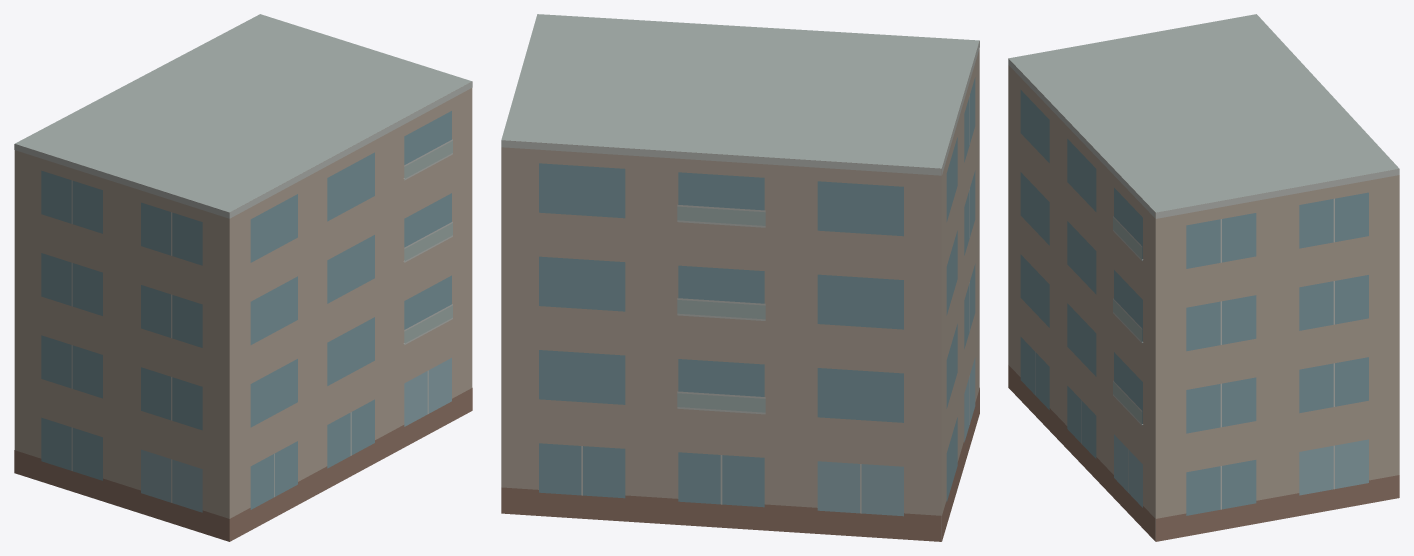
File: survey-upis-32758784.glb
The picture shows the model from 3 angles, left to right: view 1: azimuth 30°, elevation 25°; view 2: azimuth 150°, elevation 25°; view 3: azimuth 270°, elevation 25°; orthographic projection. The views are drawn at different scales.
Parts seen in each view (by area): view 1: survey-upis-32758784.tmp; view 2: survey-upis-32758784.tmp; view 3: survey-upis-32758784.tmp.
Part boxes in pixels (<box>): survey-upis-32758784.tmp: <box>14,14,472,541</box>; survey-upis-32758784.tmp: <box>501,14,979,541</box>; survey-upis-32758784.tmp: <box>1008,14,1399,541</box>.
Size of the model in its own units: 16.58 by 12.8 by 13.8.
